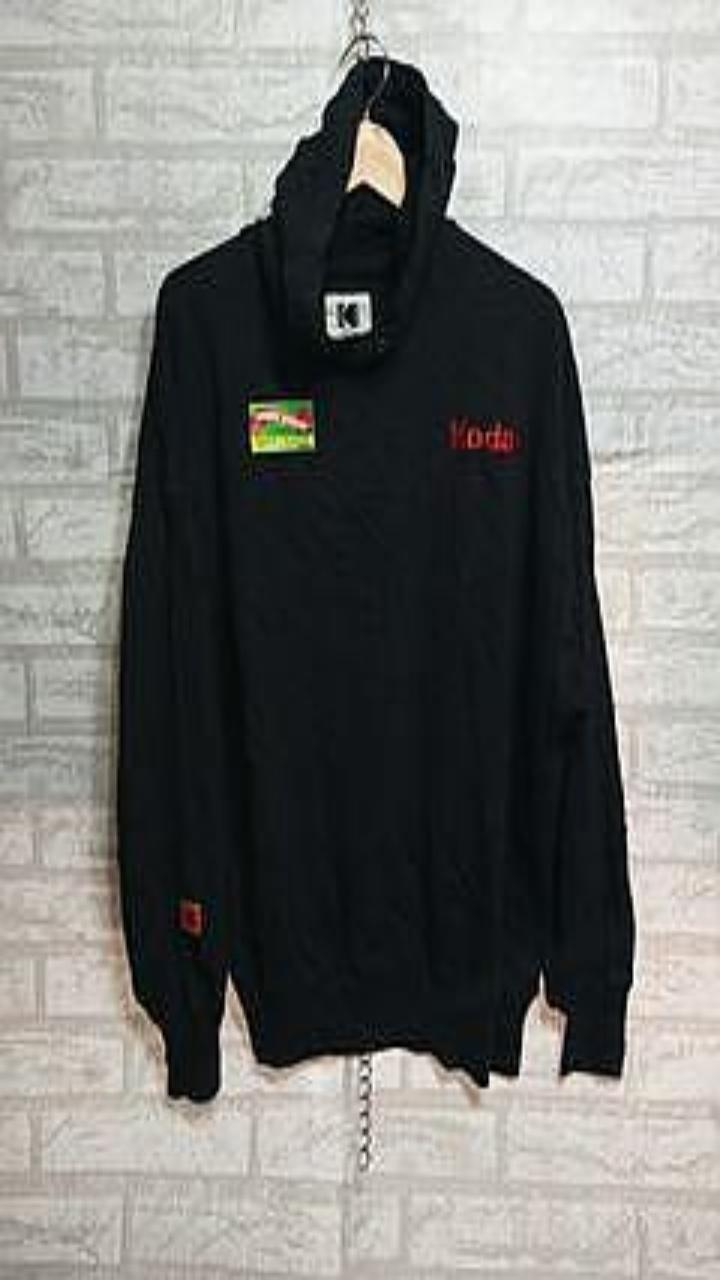Hoodie: (117, 56, 634, 1100)
